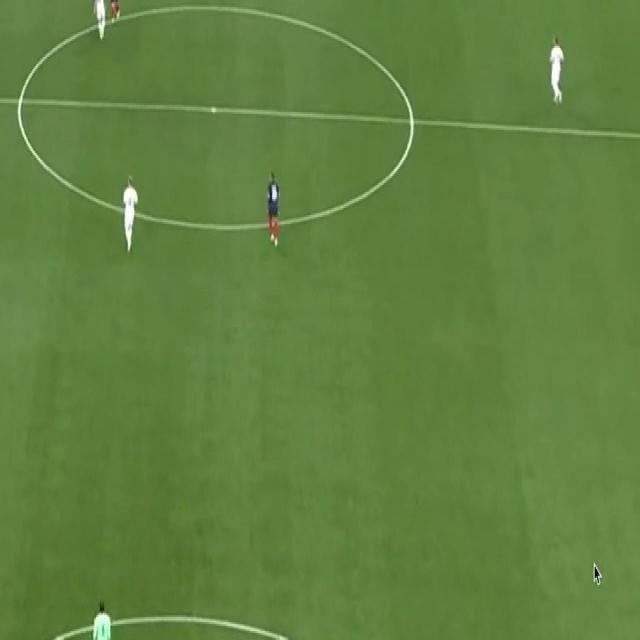player-white: (548, 31, 566, 108), (123, 175, 140, 254), (266, 171, 281, 251), (91, 597, 113, 640), (91, 0, 108, 42), (106, 0, 123, 26)
